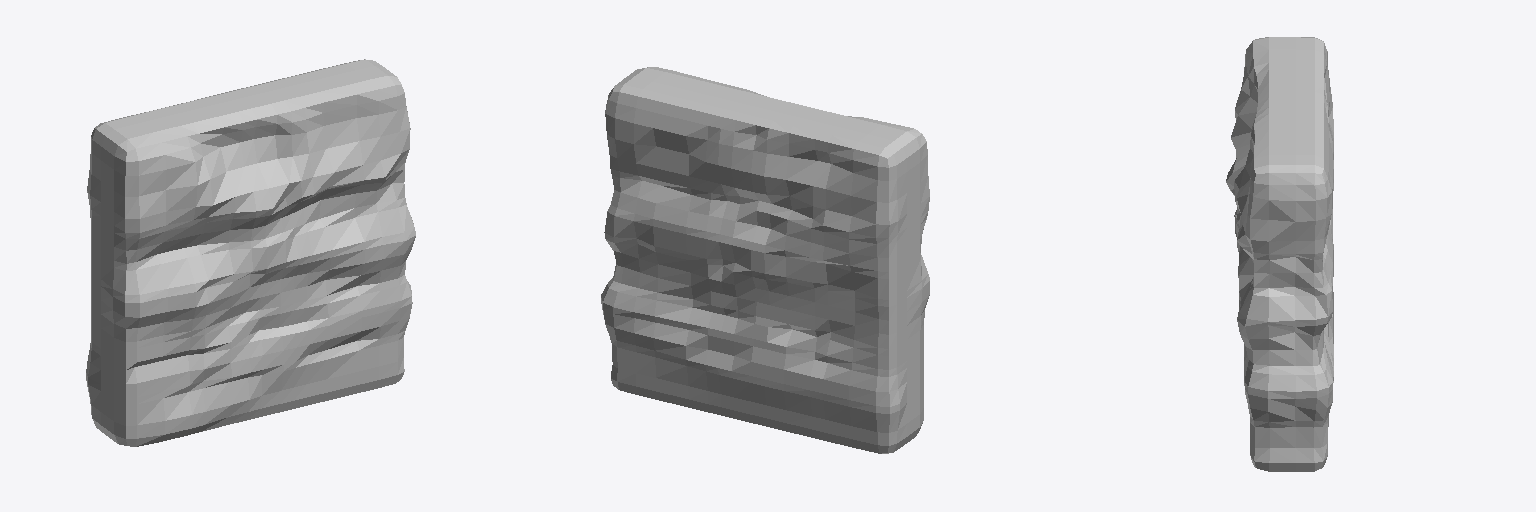
Rendered from env_level1_Canyon_Rock05.obj.
3 views of the same model, side by side, from view 1: azimuth 30°, elevation 25°; view 2: azimuth 150°, elevation 25°; view 3: azimuth 270°, elevation 25° (orthographic).
Parts seen in each view (by area): view 1: rockwall_a03; view 2: rockwall_a03; view 3: rockwall_a03.
Boxes of the visible parts, <box> form: rockwall_a03: <box>86,59,415,446</box>; rockwall_a03: <box>601,67,929,453</box>; rockwall_a03: <box>1226,37,1333,471</box>.
Bounding box in the file's own units: 6073 × 5949 × 1894.